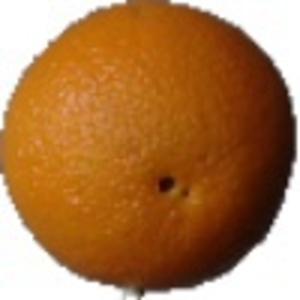laranja: (6, 4, 297, 296)
